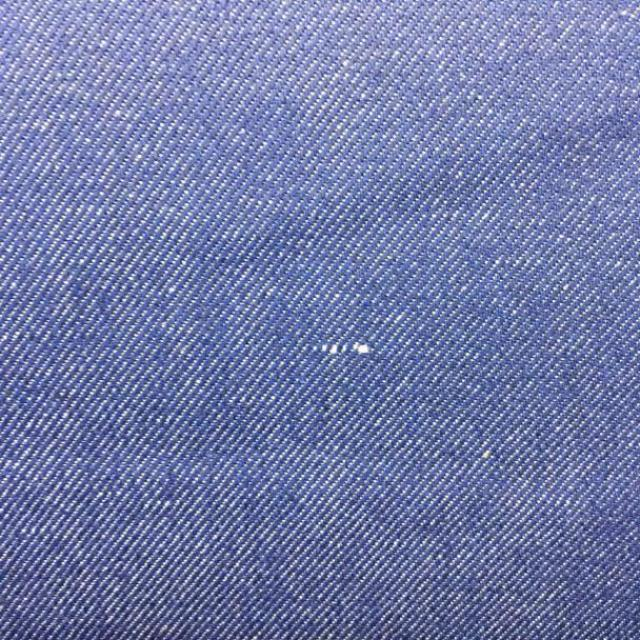Knot: (314, 342, 374, 356)
